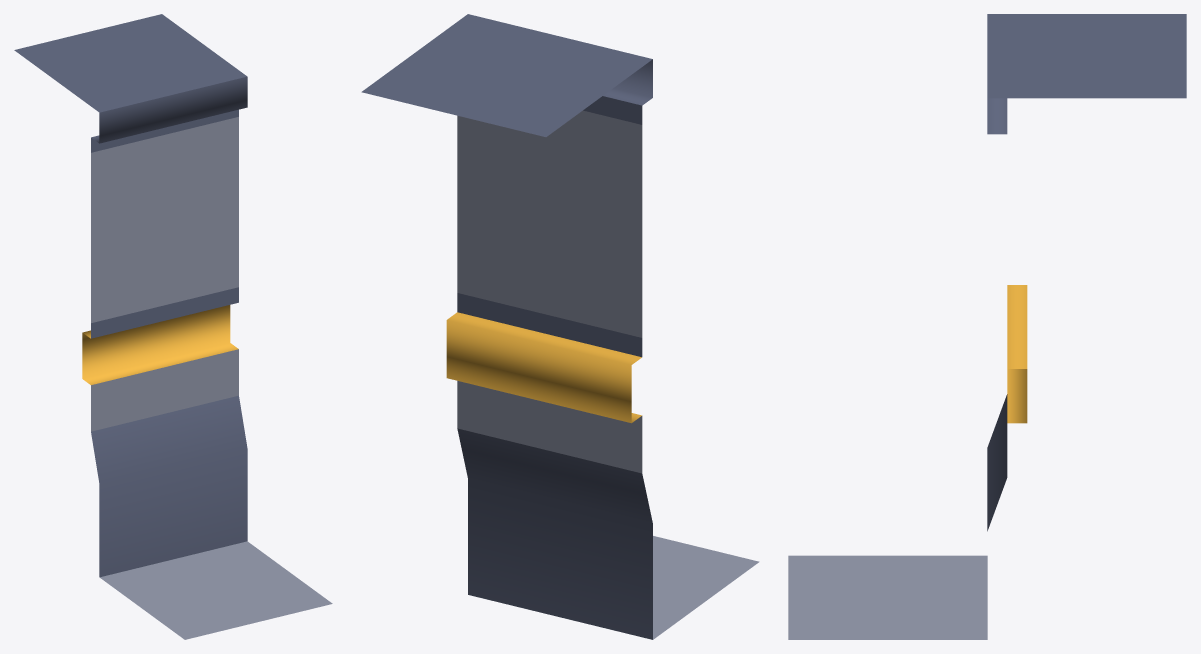
Rendered from StructureWall-transformed.glb.
3 renders of one model, left to right at view 1: azimuth 30°, elevation 25°; view 2: azimuth 150°, elevation 25°; view 3: azimuth 270°, elevation 25°, orthographic. The views are drawn at different scales.
Visible parts, largest first — view 1: structure-wall; view 2: structure-wall; view 3: structure-wall.
Part boxes in pixels (bbox=[...]): structure-wall: bbox=[14, 14, 332, 639]; structure-wall: bbox=[361, 14, 759, 639]; structure-wall: bbox=[788, 14, 1186, 639].
Size of the model in its own units: 1 by 3 by 2.
